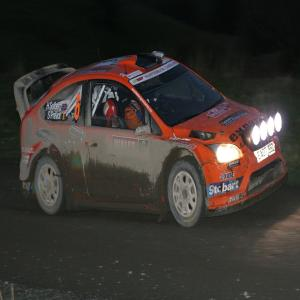Vehicle-registration-plate: (254, 142, 278, 165)
